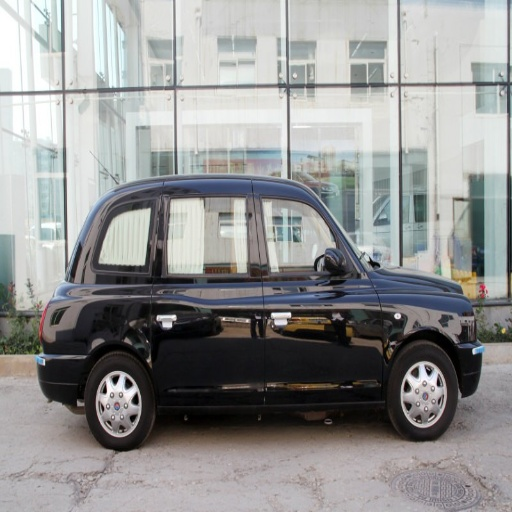front_right_door: (252, 183, 383, 399)
trunk: (45, 296, 139, 382)
